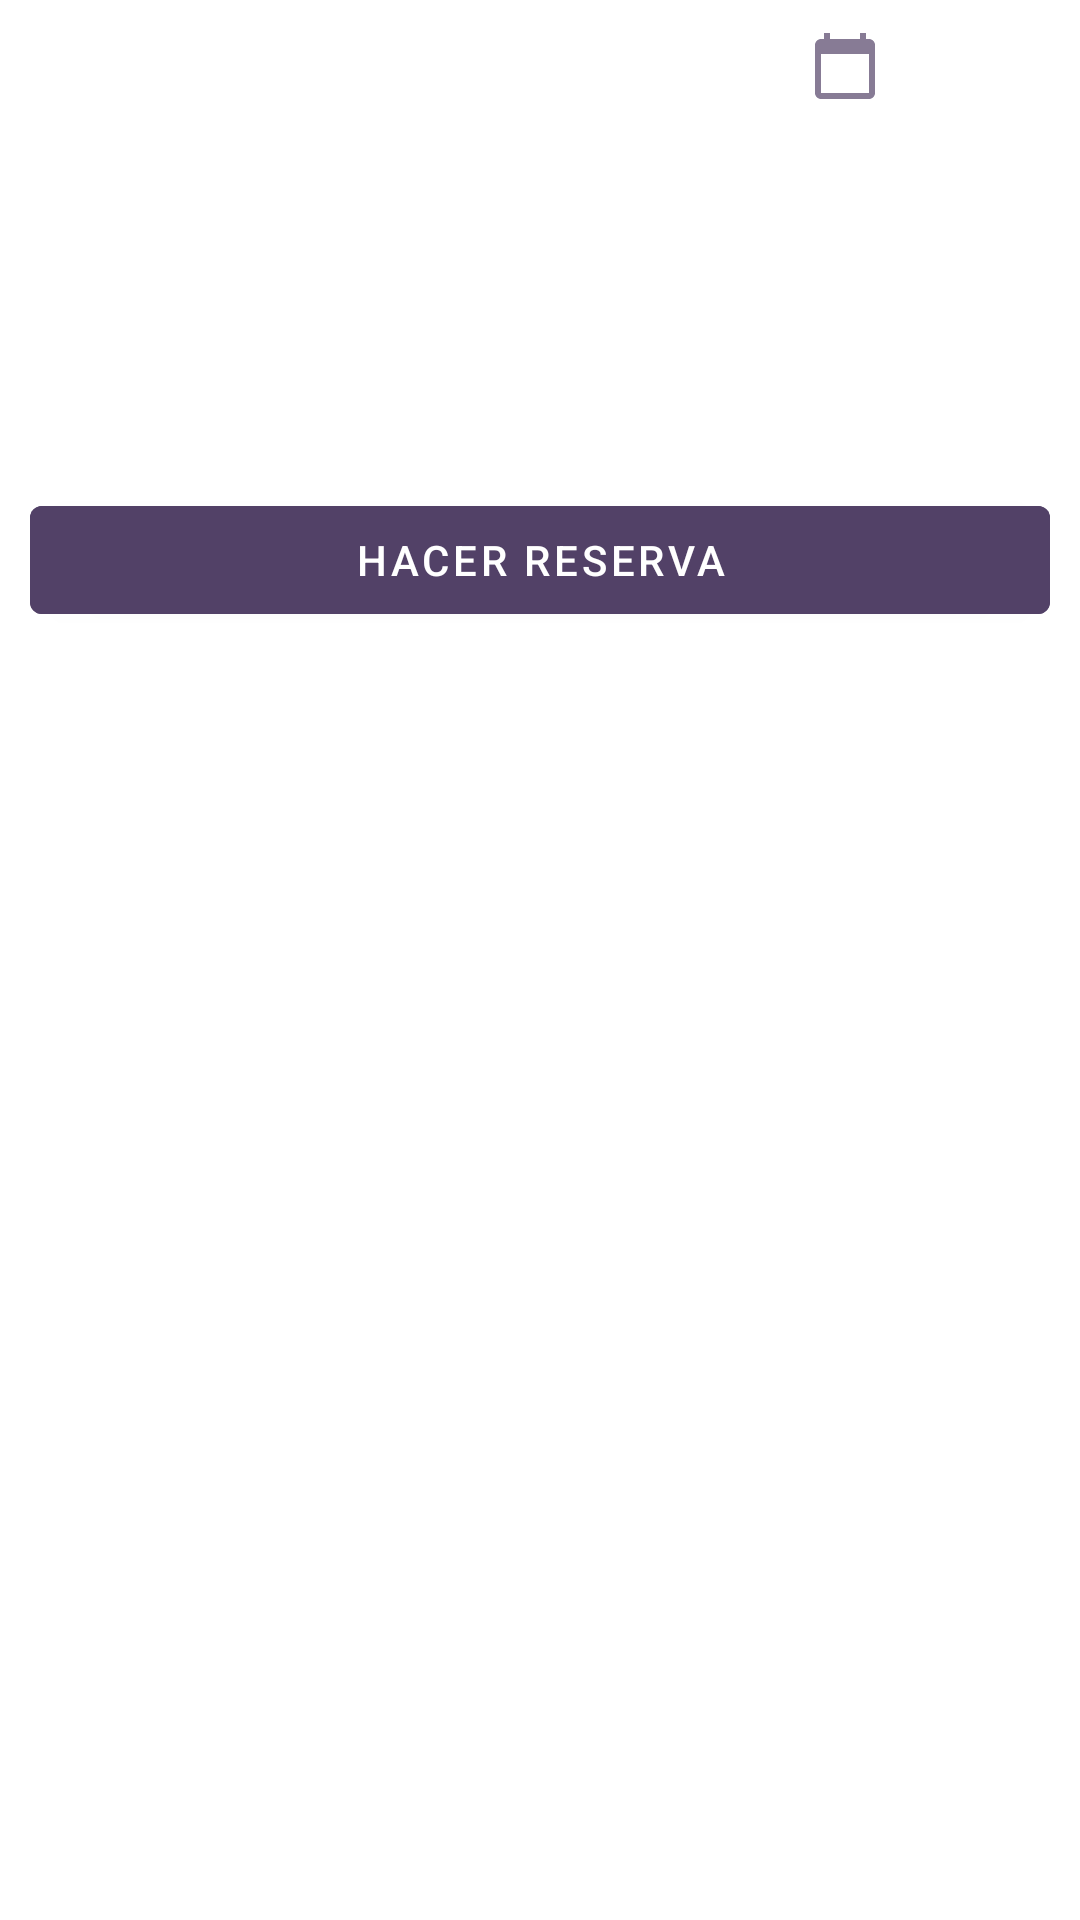

Locate icon controls on the screen. Image size 1080×1920, boxes as (x1, y1, x2, y2).
calendar today: (815, 33, 875, 99)
